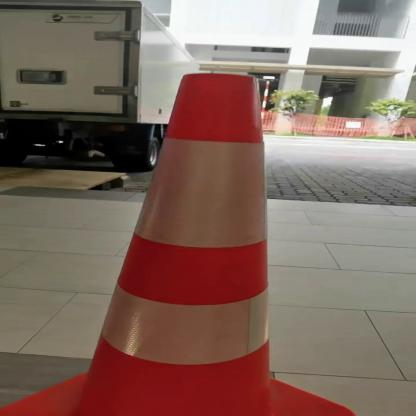cone: (0, 61, 389, 415)
